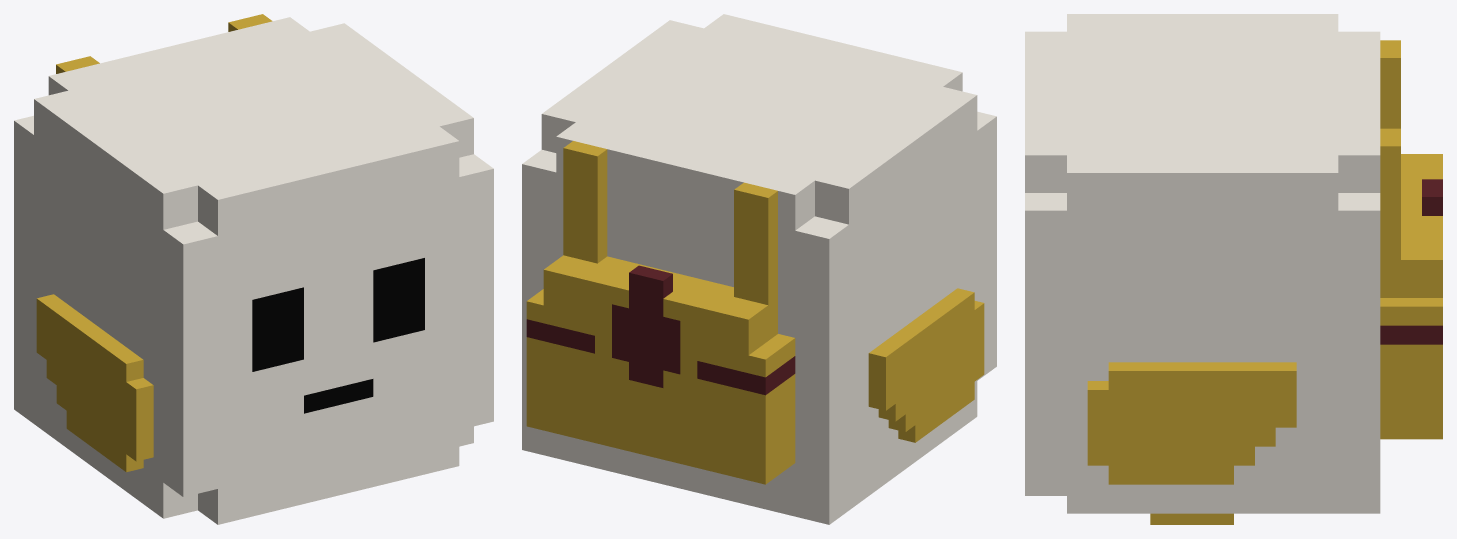
Rendered from angel_looter.obj.
3 renders of one model, left to right at view 1: azimuth 30°, elevation 25°; view 2: azimuth 150°, elevation 25°; view 3: azimuth 270°, elevation 25°, orthographic. The views are drawn at different scales.
Bounding box in the file's own units: 2 × 2 × 2.
Materials: 1 (1 with a texture image).
